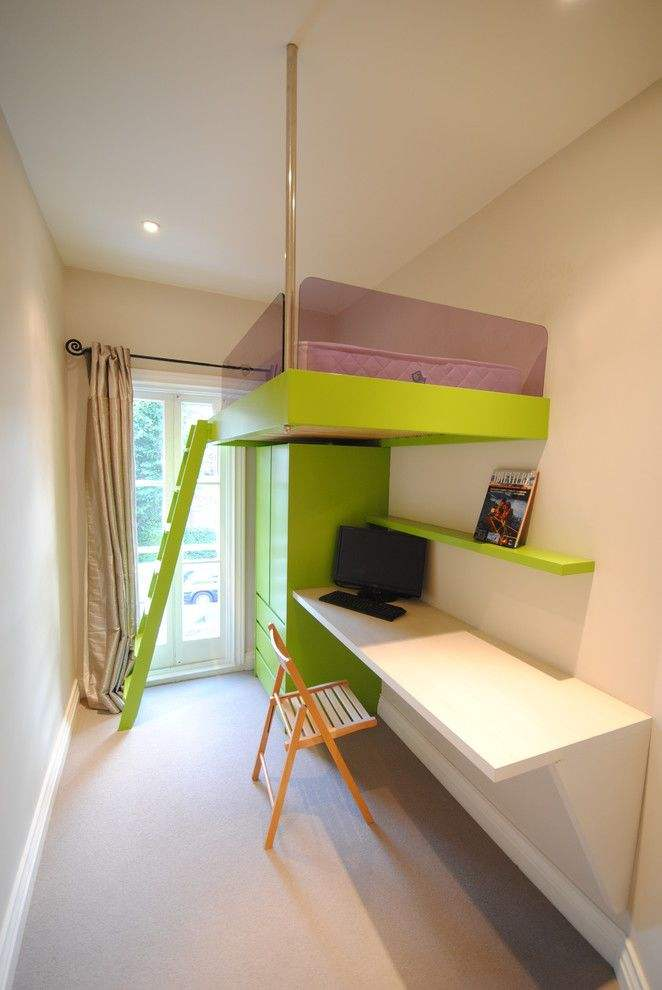床: (240, 312, 551, 453)
灯: (136, 220, 160, 243)
